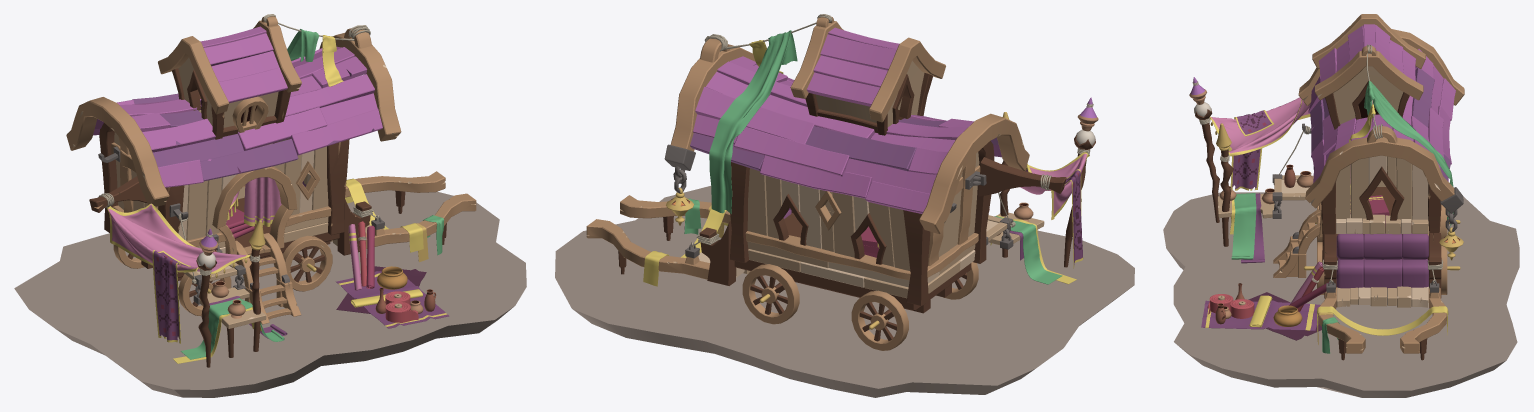
The model's file is cloth_dealer_wagon.fbx.
3 renders of one model, left to right at view 1: azimuth 30°, elevation 25°; view 2: azimuth 150°, elevation 25°; view 3: azimuth 270°, elevation 25°, orthographic. The views are drawn at different scales.
Visible parts, largest first — view 1: pCube223, polySurface204, polySurface4, polySurface22, pPlane10, pCube191, polySurface135, pCube190, polySurface107, pCube196, polySurface19, pCube16 (+53 smaller); view 2: pCube223, pPlane8, polySurface4, polySurface108, polySurface20, pCube210, polySurface107, pCube208, polySurface22, polySurface135, pCube214, pCube207 (+47 smaller); view 3: pCube223, polySurface22, pCube87, pCube14, polySurface204, polySurface17, pPlane10, pCube182, pPlane1, pPlane8, pPlane13, polySurface4 (+46 smaller).
Part boxes in pixels (x1,y1,x2,y2): pCube223: (14, 190, 526, 397); polySurface204: (107, 203, 250, 273); polySurface4: (66, 97, 169, 206); polySurface22: (319, 33, 401, 141); pPlane10: (152, 250, 190, 343); pCube191: (200, 139, 298, 181); polySurface135: (158, 36, 228, 114); pCube190: (290, 108, 382, 155); polySurface107: (283, 235, 332, 291); pCube196: (237, 107, 327, 150); polySurface19: (273, 139, 349, 235); pCube16: (212, 166, 297, 228); pCube223: (555, 186, 1134, 397); pPlane8: (709, 30, 797, 213); polySurface4: (919, 113, 1029, 233); polySurface108: (851, 262, 978, 350); polySurface20: (903, 141, 994, 306); pCube210: (734, 127, 849, 176); polySurface107: (742, 264, 799, 324); pCube208: (805, 126, 916, 171); polySurface22: (670, 44, 755, 151); polySurface135: (869, 37, 945, 122); pCube214: (760, 155, 872, 198); pCube207: (695, 87, 814, 143); pCube223: (1163, 192, 1519, 397); polySurface22: (1305, 137, 1454, 208); pCube87: (1336, 259, 1428, 288); pCube14: (1336, 233, 1428, 259); polySurface204: (1209, 97, 1310, 156); polySurface17: (1314, 51, 1423, 100); pPlane10: (1230, 110, 1273, 190); pCube182: (1333, 66, 1403, 124); pPlane1: (1201, 300, 1320, 330); pPlane8: (1364, 80, 1453, 226); pPlane13: (1231, 193, 1256, 259); polySurface4: (1298, 29, 1464, 105).
Size of the model in its own units: 8.76 by 5.16 by 6.5.
